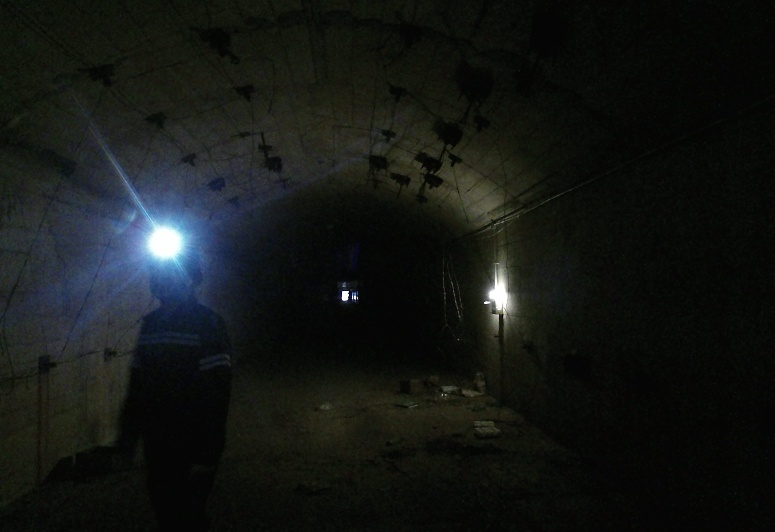person: (141, 238, 279, 532)
